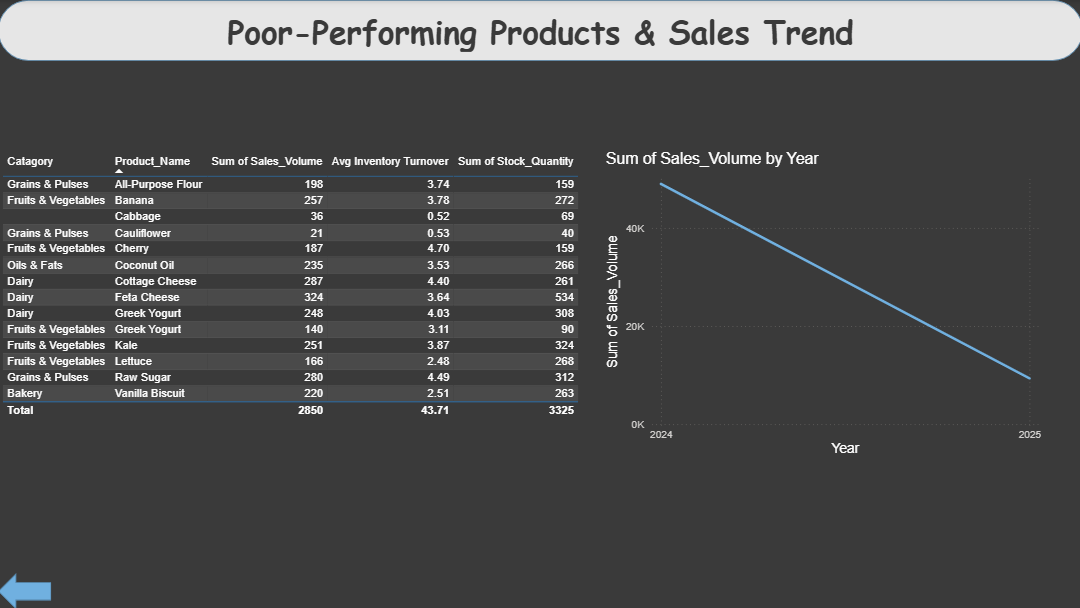

This screenshot's page, from the dashboard's own definition file:
{"tool":"powerbi","page":{"name":"Poor-Performing Products & Sales Trend ","canvas":[1280,720],"ordinal":9},"visuals":[{"type":"shape","box":[0,0,1280.6,71.7],"z":0},{"type":"tableEx","fields":{"Values":["Grocery_Inventory.Catagory","Grocery_Inventory.Product_Name","Sum(Grocery_Inventory.Sales_Volume)","Grocery_Inventory.Avg Inventory Turnover","Sum(Grocery_Inventory.Stock_Quantity)"]},"box":[0,176.9,699.3,366.8],"z":1000},{"type":"lineChart","fields":{"Category":["Grocery_Inventory.Last_Order_Date.Variation.Date Hierarchy.Year","Grocery_Inventory.Last_Order_Date.Variation.Date Hierarchy.Quarter","Grocery_Inventory.Last_Order_Date.Variation.Date Hierarchy.Month","Grocery_Inventory.Last_Order_Date.Variation.Date Hierarchy.Day"],"Y":["Sum(Grocery_Inventory.Sales_Volume)"]},"box":[712.4,176.9,524,366.8],"z":2000},{"type":"shape","box":[0,676.8,63,43.1],"z":3000}]}

Visuals, with their boxes in screenshot pixels (x1, y1, x2, y2), scaled from the page's 1280x720 canvas onto the 1080x608 screenshot:
shape: [left=0, top=0, right=1079, bottom=61]
tableEx - Grocery_Inventory.Catagory x Grocery_Inventory.Product_Name: [left=0, top=149, right=590, bottom=459]
lineChart - Grocery_Inventory.Last_Order_Date.Variation.Date Hierarchy.Year x Grocery_Inventory.Last_Order_Date.Variation.Date Hierarchy.Quarter: [left=601, top=149, right=1043, bottom=459]
shape: [left=0, top=572, right=53, bottom=607]
